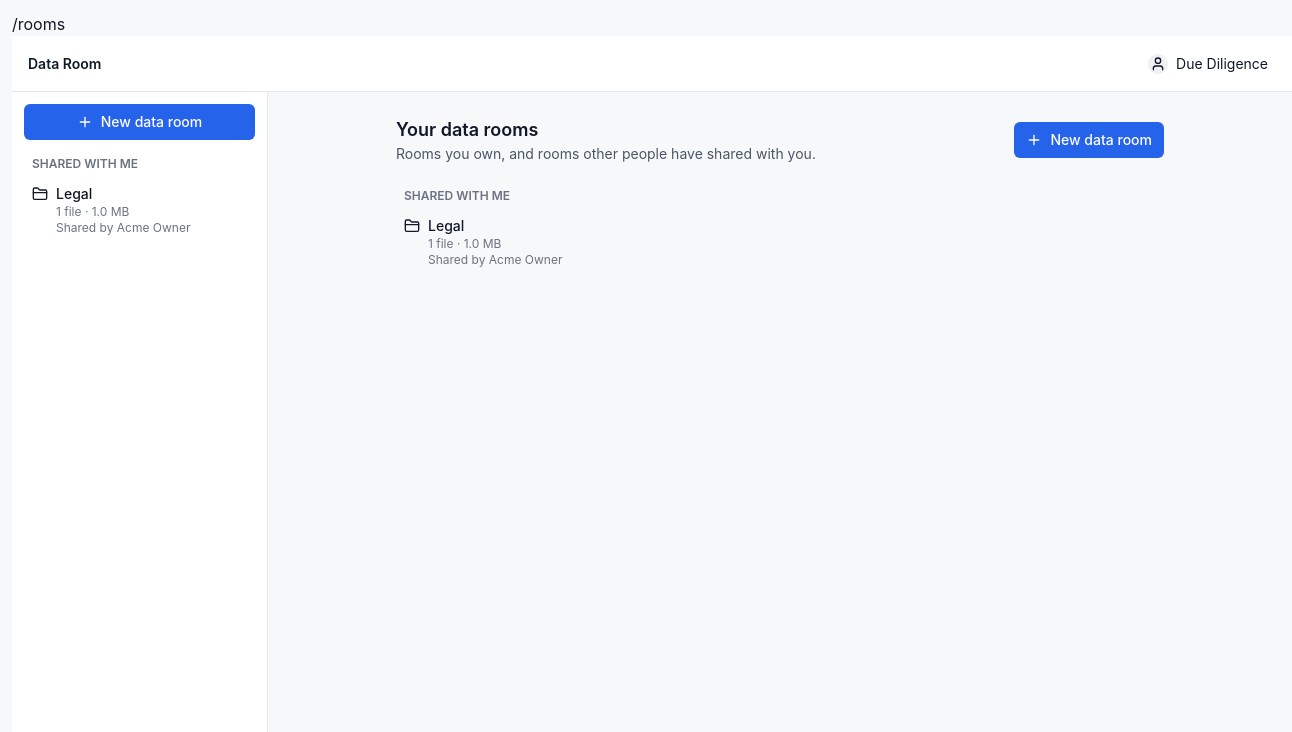
Scenario: a room shared with the signed-in user › enters the room at the share root rather than the room root
This screenshot has width=1292, height=732.
Click the 1st link "Legal 1 file · 1.0 MB Shared by Acme Owner".
click(111, 210)  # box [32,185,190,235]
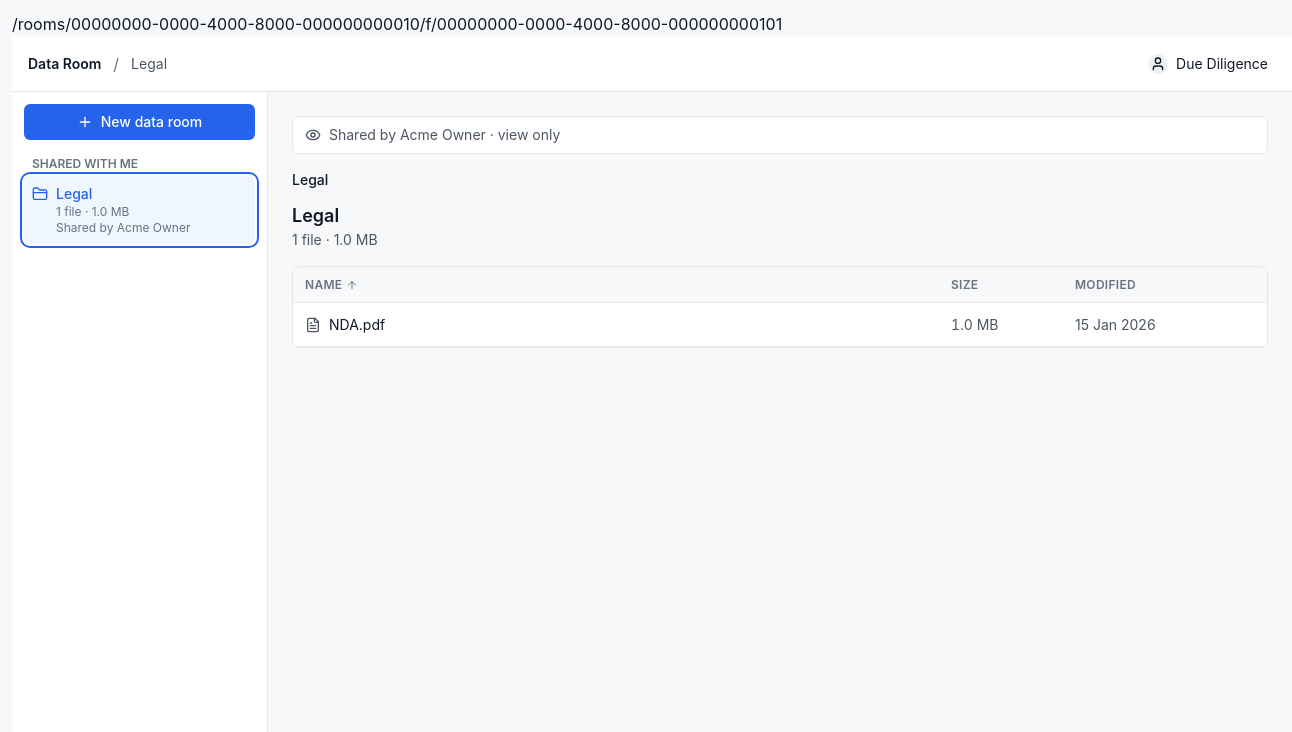
expect the button "NDA.pdf" is shown: met, box [305,314,385,334]
